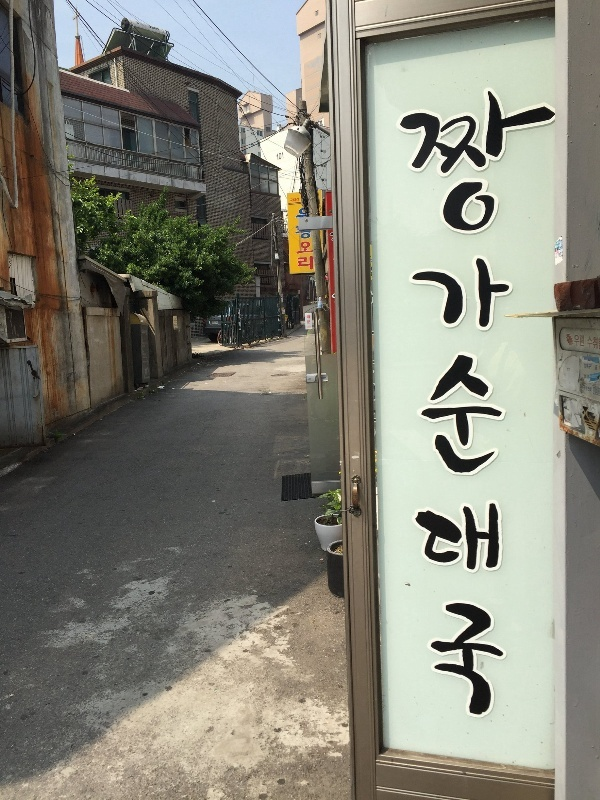text: (417, 352, 432, 722), (433, 352, 448, 722), (449, 352, 464, 722), (465, 352, 480, 722), (481, 352, 496, 722), (497, 352, 511, 722), (401, 65, 416, 341), (417, 65, 432, 341), (433, 65, 448, 341), (449, 65, 464, 341), (465, 65, 480, 341), (481, 65, 496, 341), (497, 65, 512, 341), (513, 65, 528, 341), (529, 65, 544, 341), (545, 65, 556, 341), (408, 352, 416, 722), (305, 241, 315, 270), (399, 65, 400, 341), (296, 241, 304, 270), (305, 222, 314, 243), (276, 151, 288, 162), (307, 315, 320, 325), (299, 222, 304, 243), (577, 334, 585, 347), (587, 336, 592, 351), (593, 336, 598, 351), (290, 198, 304, 203), (584, 385, 592, 393), (555, 240, 560, 252), (282, 307, 288, 316), (282, 294, 288, 303), (275, 255, 288, 259), (584, 363, 592, 369), (584, 374, 592, 380), (284, 315, 288, 326), (300, 207, 304, 218), (305, 207, 309, 218), (555, 252, 560, 259), (595, 365, 600, 371), (596, 389, 600, 396), (574, 334, 576, 347), (555, 250, 560, 255), (558, 239, 560, 251), (561, 239, 563, 251), (561, 252, 563, 259), (599, 337, 600, 350)
